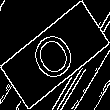O_SE: (26, 22, 84, 88)
